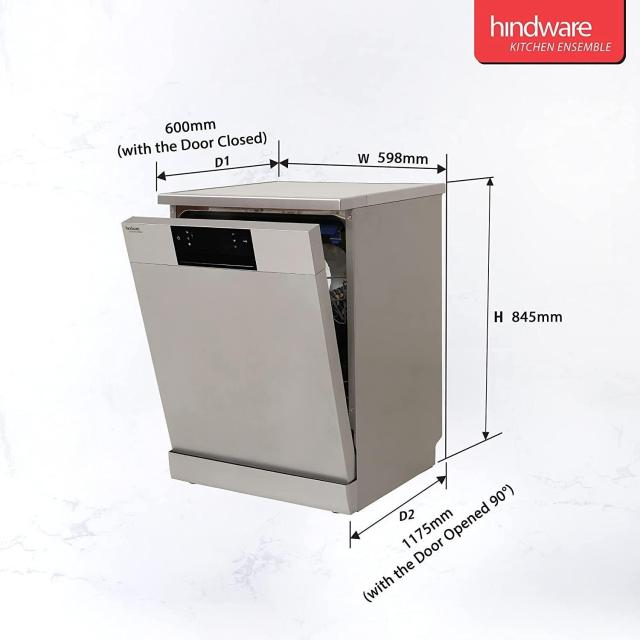dishwasher: (116, 184, 368, 514)
